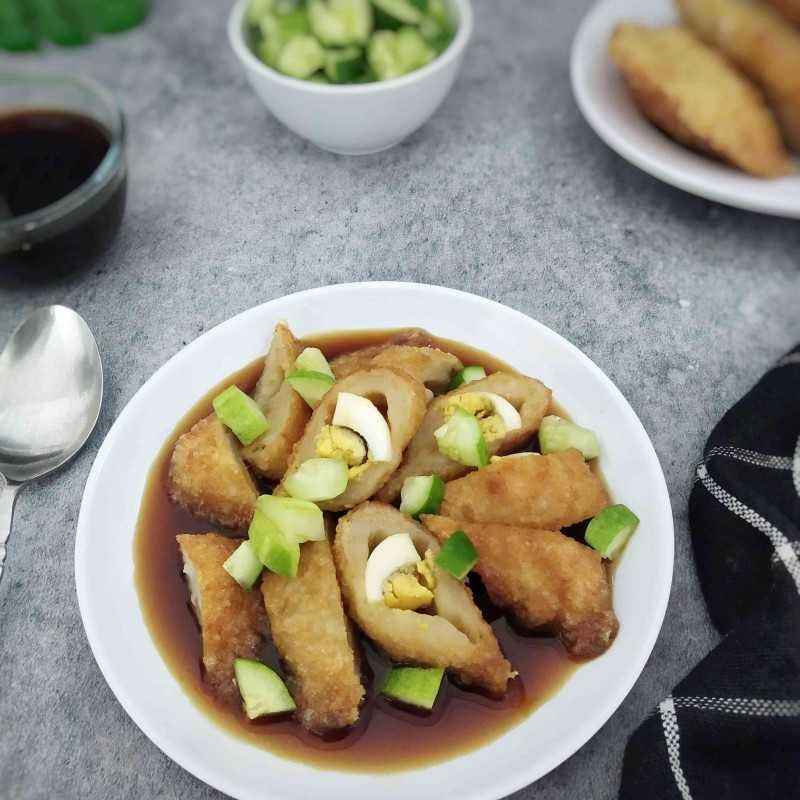pempek: (169, 318, 619, 731)
